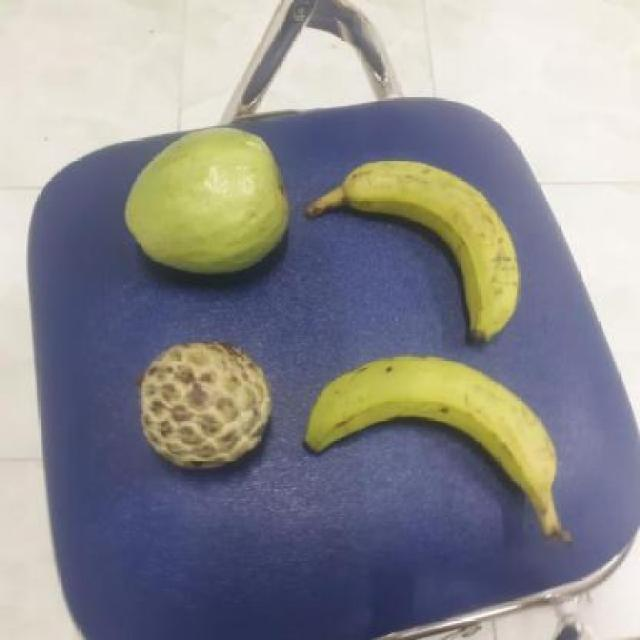banana: (294, 354, 555, 518), (298, 163, 524, 343)
guava: (119, 125, 290, 274)
sugar apple: (131, 341, 272, 468)
